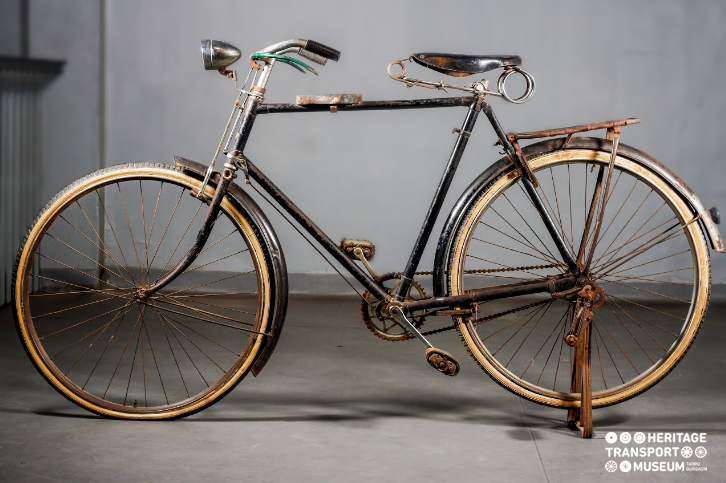cycle: (14, 33, 722, 434)
